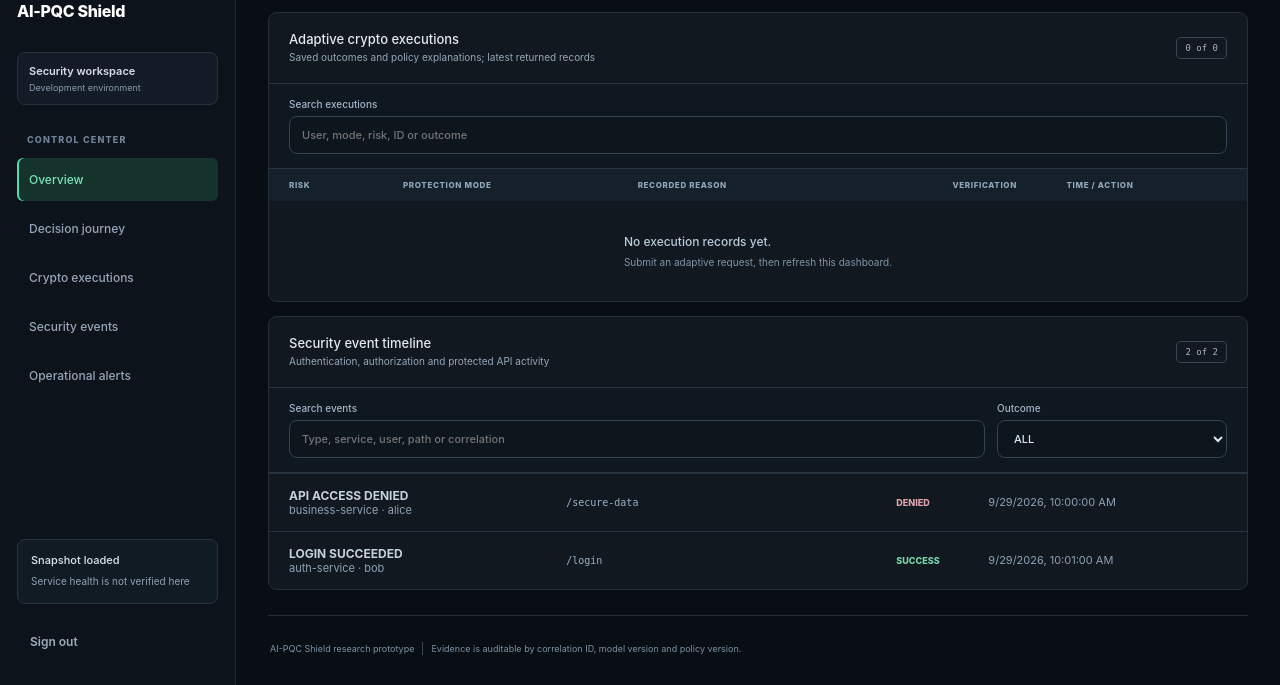
Test: AI-PQC dashboard › filters event evidence and allows the user to clear the search
(page scrolled)
Expected: the text "API ACCESS DENIED" is shown, [289, 488, 408, 503]
Step 1. Select "DENIED" in the dropdown labelled "Outcome" → (1112, 439), box [997, 420, 1227, 458]
(page scrolled)
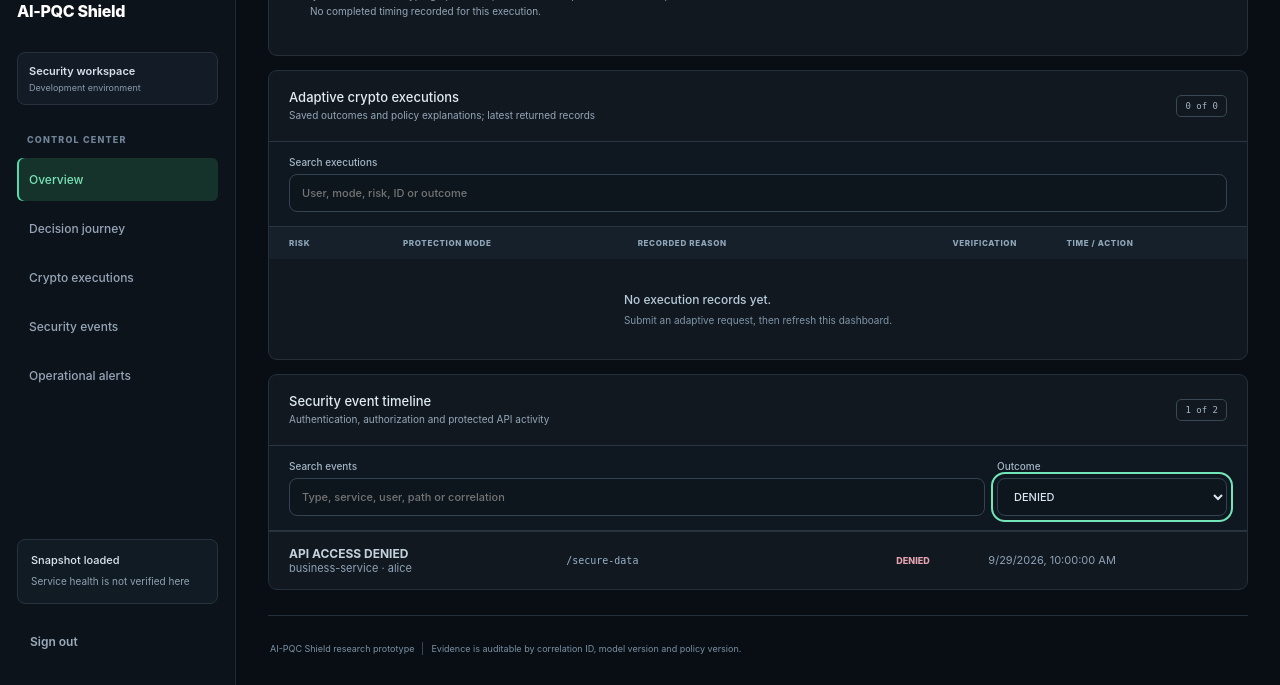
Expected: the text "LOGIN SUCCEEDED" is gone
Step 2. Type "nothing-matches" into the field labelled "Search events" → (637, 497), box [289, 478, 985, 516]
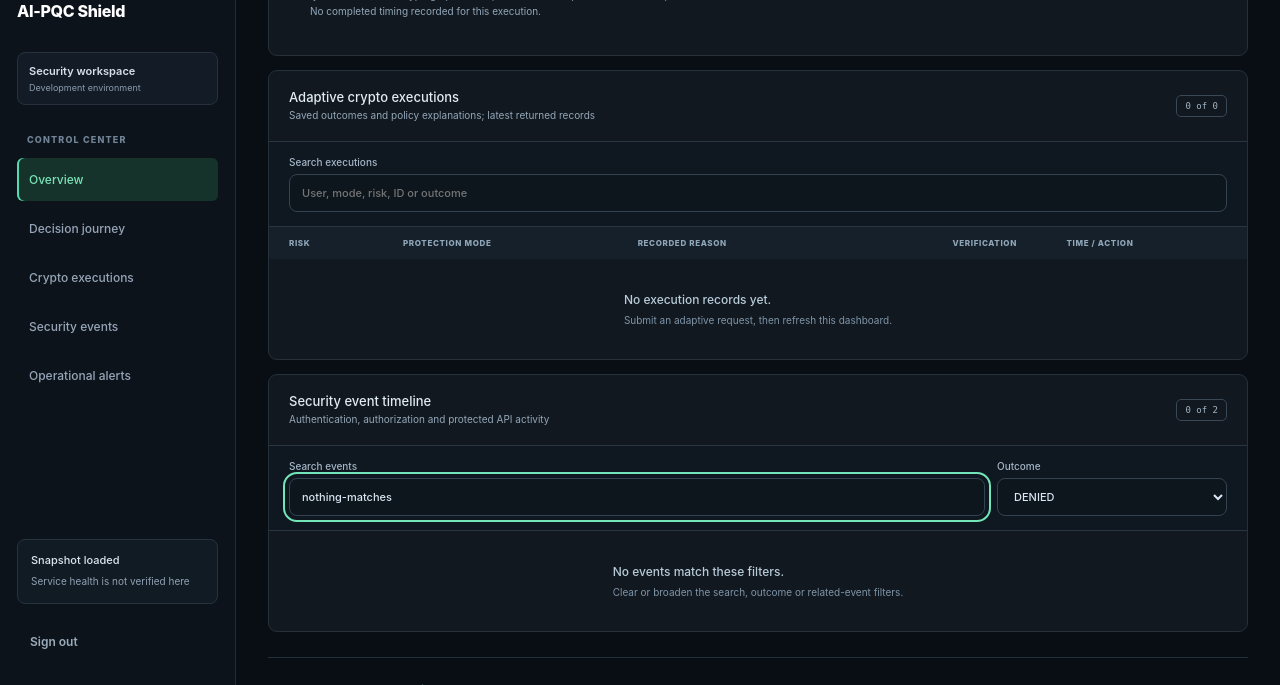
Expected: the text "No events match these filters." is shown, [613, 564, 784, 579]
Step 3. Clear the field labelled "Search events" → (637, 497), box [289, 478, 985, 516]
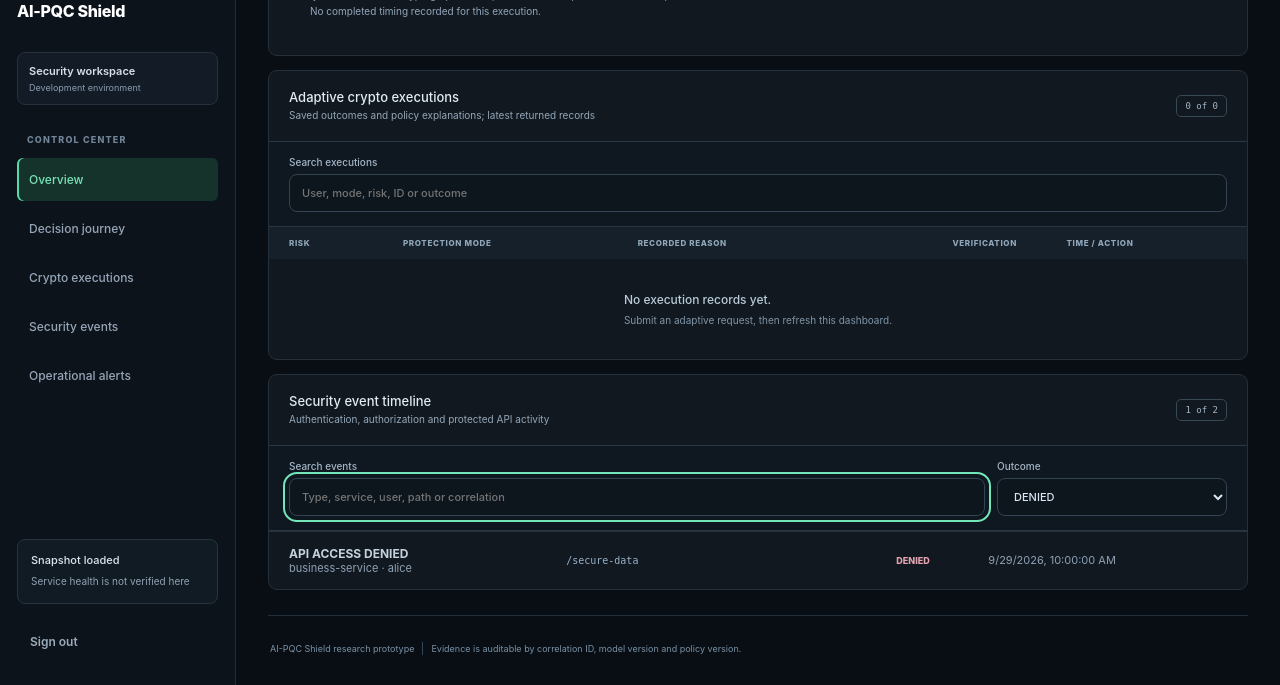
Expected: the text "API ACCESS DENIED" is shown, [289, 546, 408, 561]
